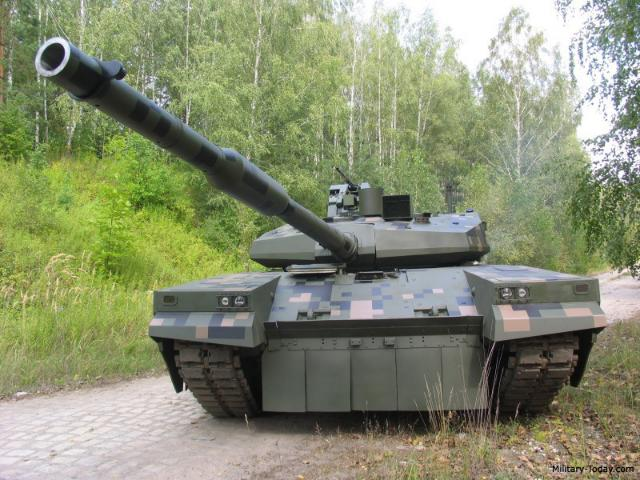tank: (152, 184, 598, 410)
